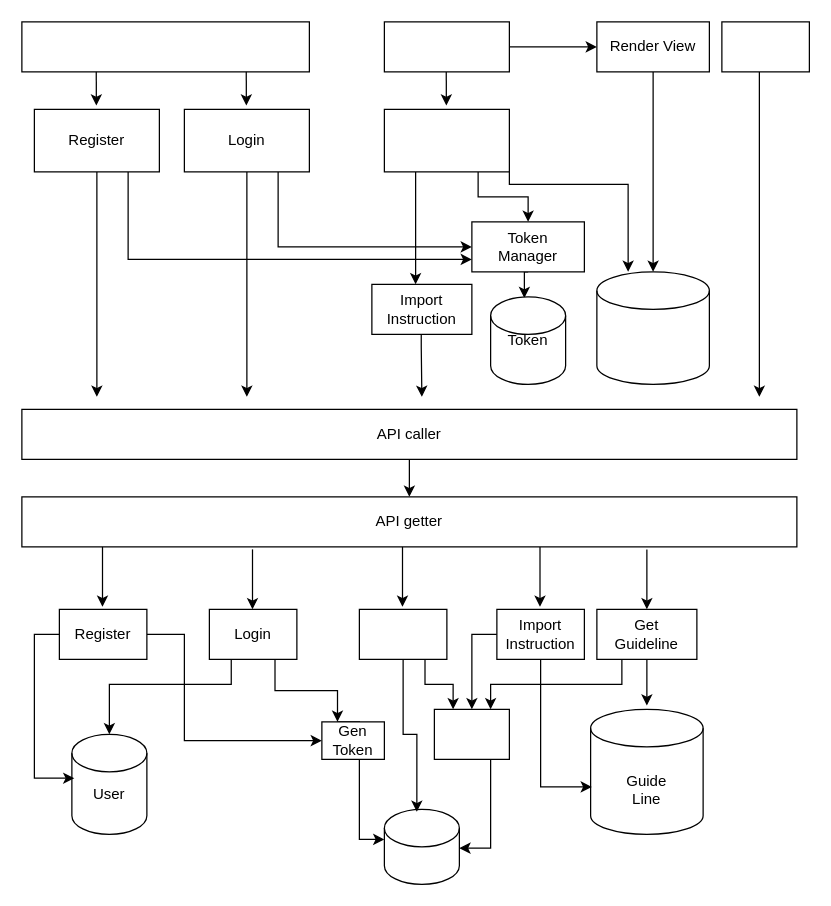
This 831x906 diagram has some shape labels left out. Each missing label, with the centre of its shape:
"Editor" belongs at [446,140].
"Editor View" belongs at [446,46].
"GuideLine View" belongs at [765,46].
"Key" belongs at [421,846].
"Regen Token" belongs at [471,733].
"Render Object" belongs at [652,327].
"Update Key" belongs at [402,633].
"User View" belongs at [165,46].
